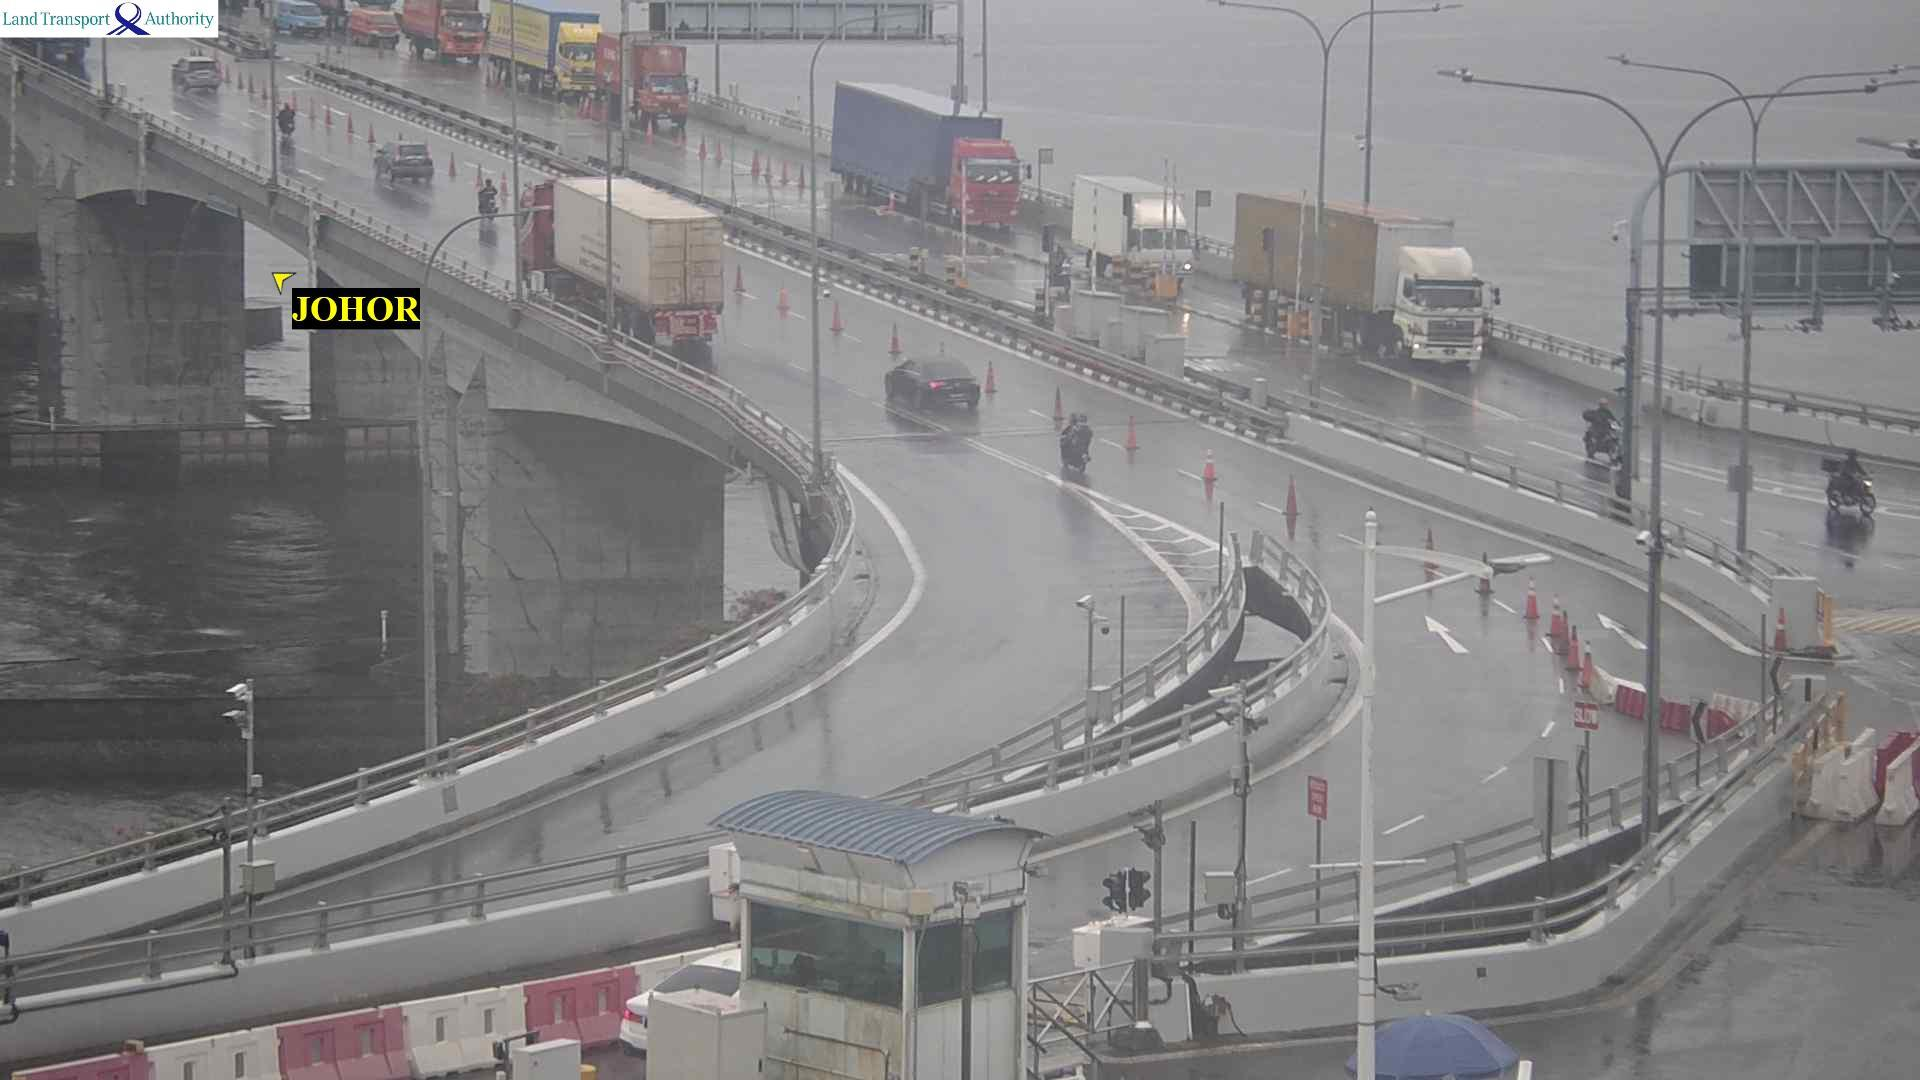vehicle-secondlink-johor: (889, 361, 985, 410), (378, 137, 430, 183), (174, 58, 215, 103), (1062, 413, 1091, 475), (476, 179, 498, 231), (282, 107, 301, 142)
vehicle-secondlink-singapore: (1241, 189, 1497, 367), (835, 80, 1031, 232), (1085, 173, 1185, 293), (491, 0, 604, 86), (601, 33, 684, 121), (351, 0, 489, 51), (1828, 455, 1866, 549), (1577, 397, 1613, 462), (274, 0, 338, 32), (1873, 295, 1920, 331)
